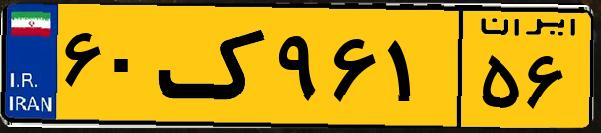0: (110, 28, 158, 98)
1: (385, 28, 445, 110)
5: (475, 38, 525, 113)
6: (330, 28, 385, 110), (57, 26, 110, 100), (525, 38, 570, 115)
9: (270, 28, 330, 110)
ک: (158, 12, 270, 120)
